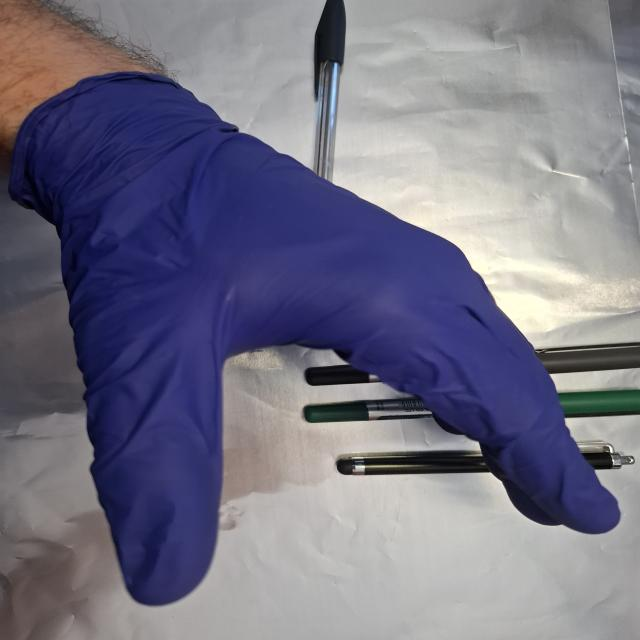glove_on: (21, 69, 625, 611)
